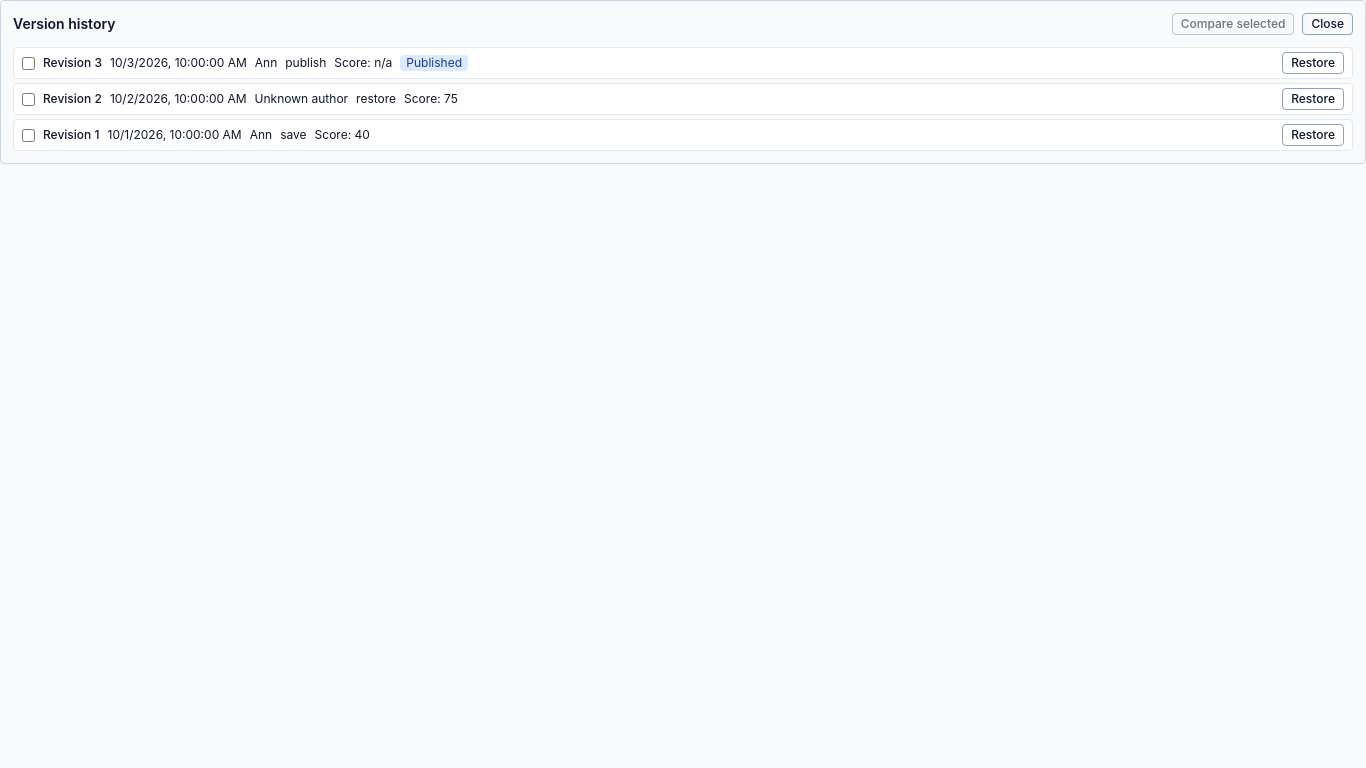
HistoryDrawer › cancelling the confirmation does not restore
Click the button with aria-label "Restore revision 1": (1313, 135) [1282,124,1344,146]
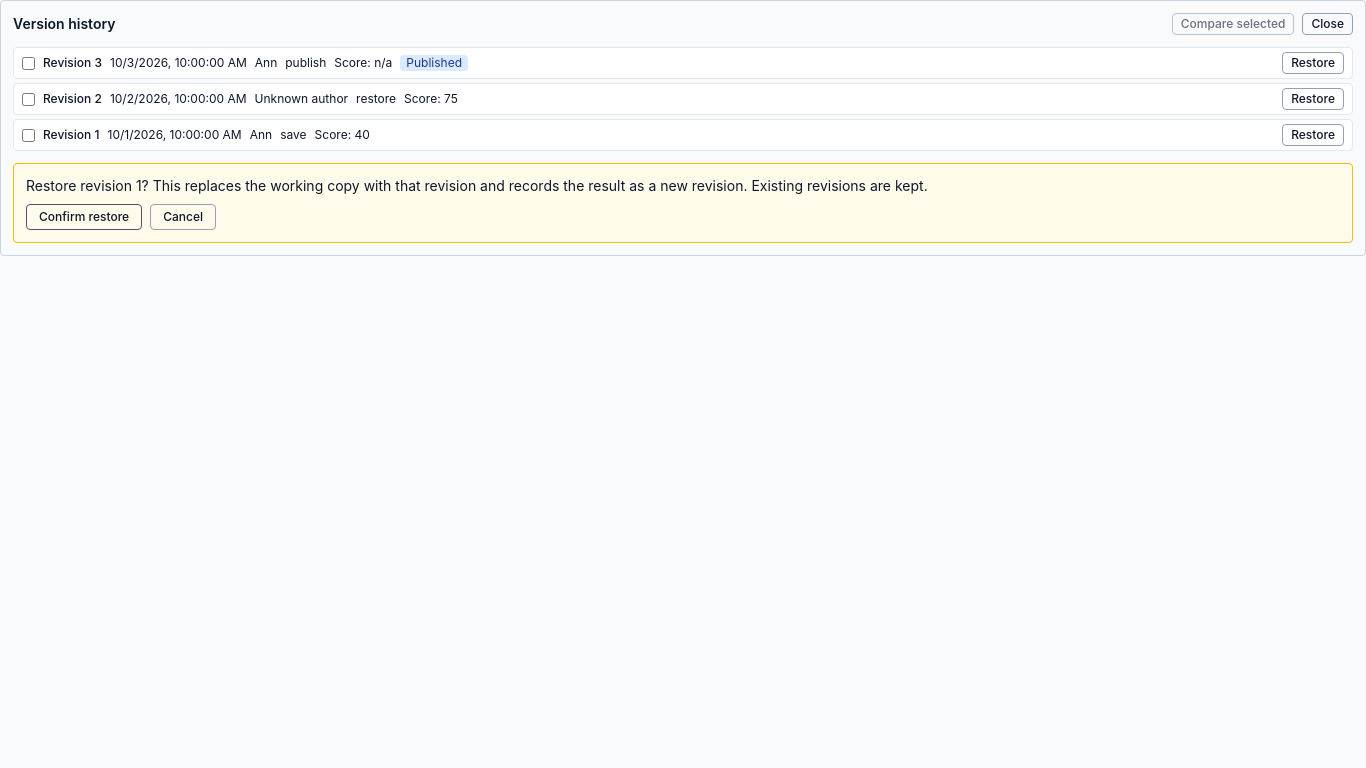
Click the button "Cancel": (183, 217) [150,204,216,230]
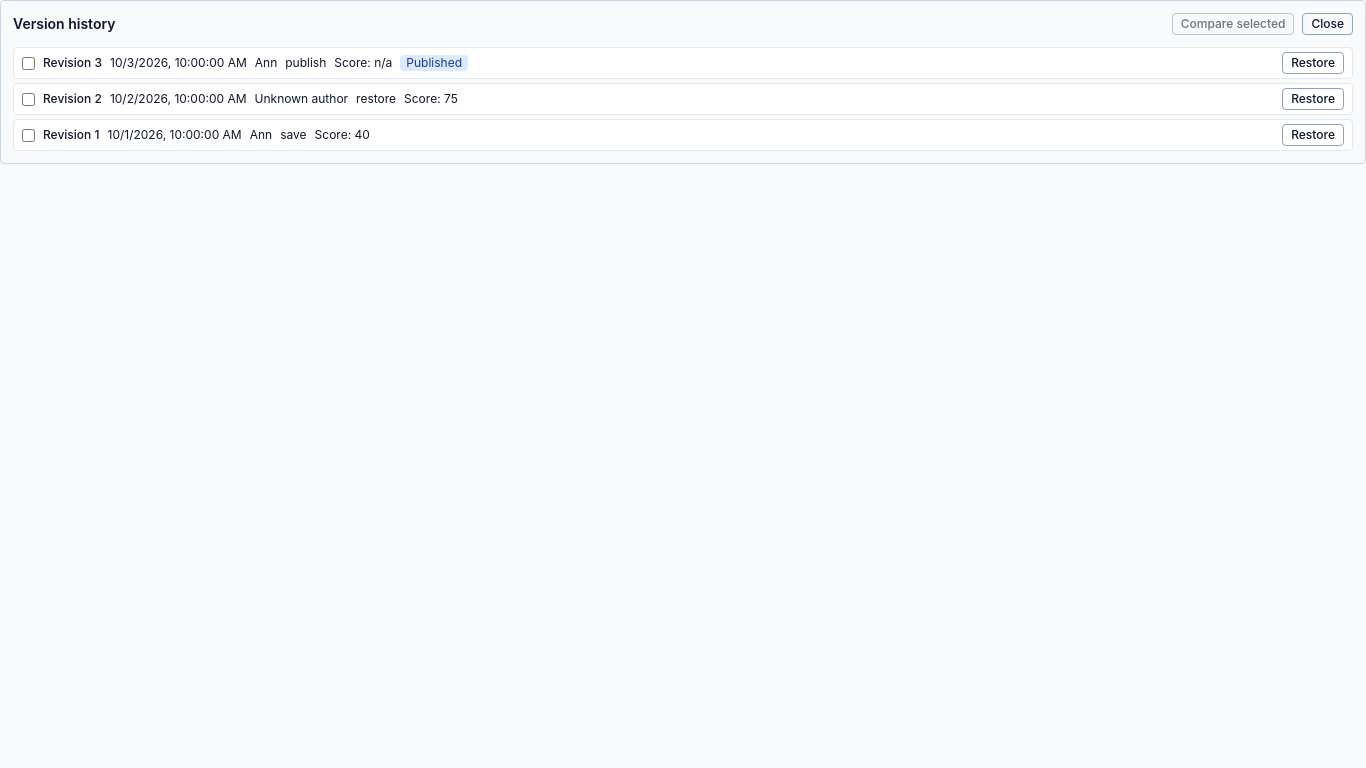
Expected: the dialog is gone
